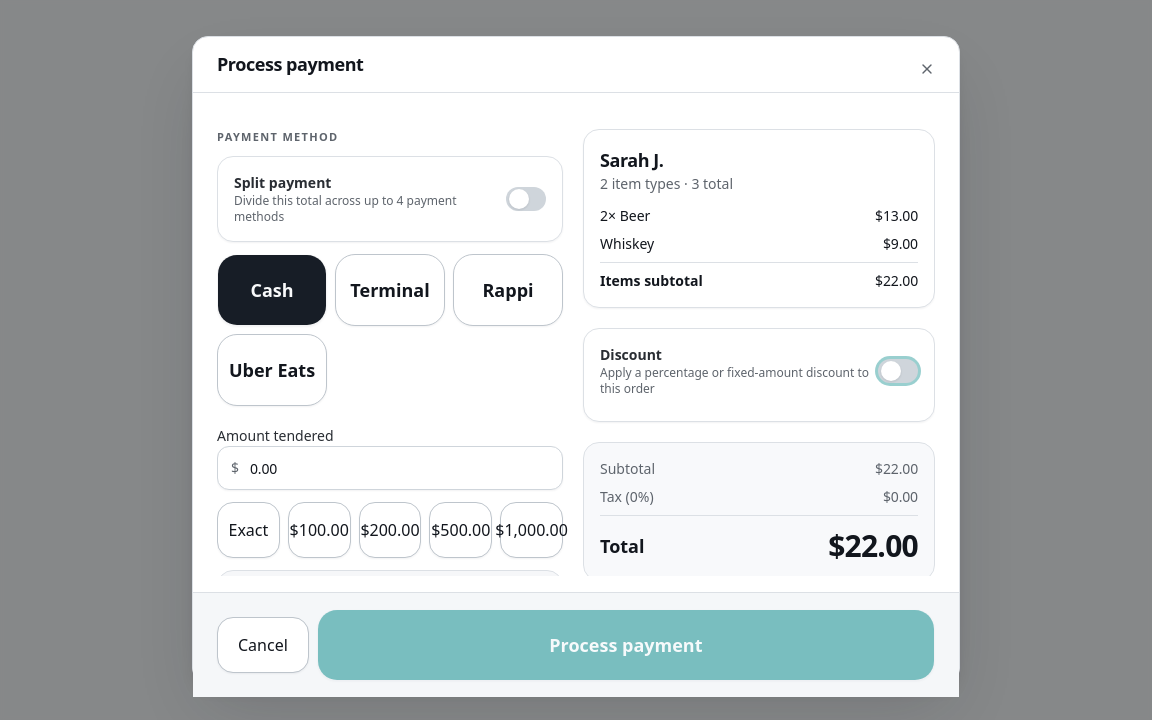
PaymentModal › allows bartender to process payment (close_tab is in bartender permissions)
This screenshot has width=1152, height=720.
Expected: the button "Process payment" is disabled, x1=317 y1=608 x2=935 y2=680
Once sufficient tender is entered, bartender can submit
In the field labelled "Amount tendered": coordinates (390, 468) x1=217 y1=446 x2=563 y2=490, type "30.00"
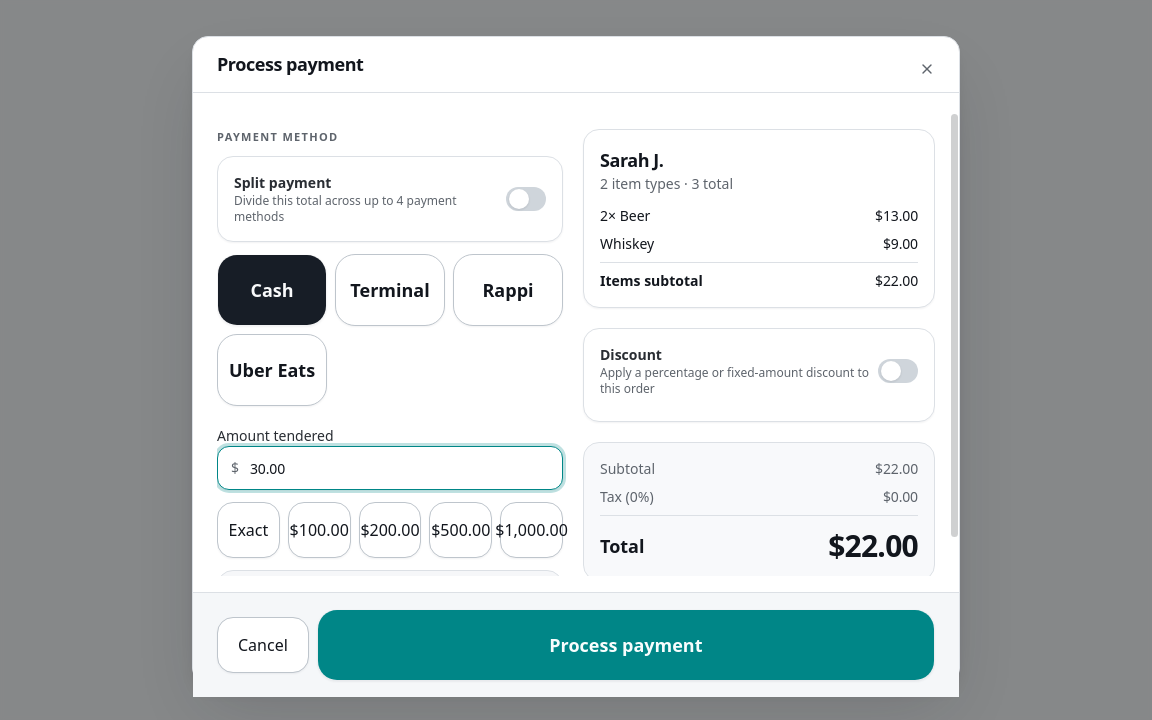
Now the button "Process payment" is enabled, box x1=317 y1=608 x2=935 y2=680
